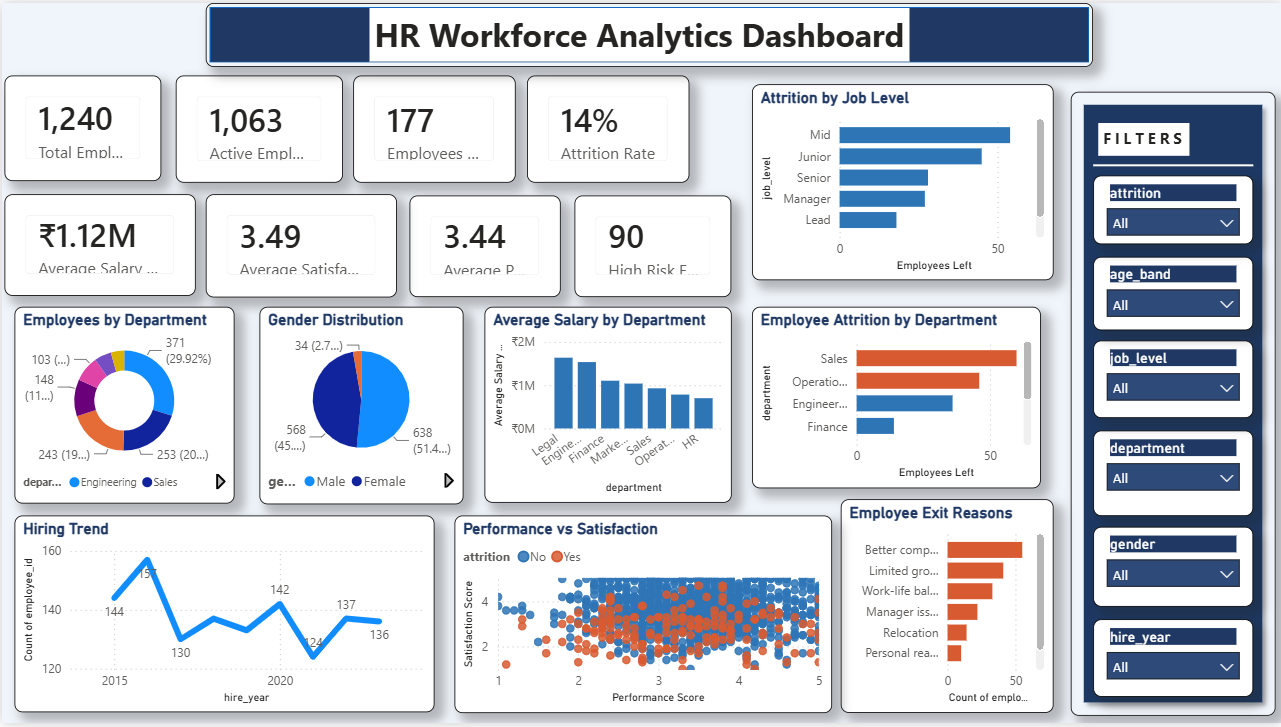

The page's visual inventory and layout, read from the dashboard file:
{"tool":"powerbi","page":{"name":"Page 1","canvas":[1280,720],"ordinal":0},"visuals":[{"type":"shape","box":[1069.1,89.1,204.5,623.6],"z":0},{"type":"cardVisual","fields":{"Data":["hr_cleaned.Total Employees"]},"box":[2.9,72.9,157.1,105.7],"z":1000},{"type":"cardVisual","fields":{"Data":["hr_cleaned.Active Employees"]},"box":[173.8,72.5,167.5,107.5],"z":2000},{"type":"cardVisual","fields":{"Data":["hr_cleaned.Employees Left"]},"box":[351.2,72.5,162.5,107.5],"z":3000},{"type":"cardVisual","fields":{"Data":["hr_cleaned.Attrition Rate"]},"box":[525,72.5,162.5,107.5],"z":4000},{"type":"cardVisual","fields":{"Data":["hr_cleaned.Average Salary"]},"box":[2.9,191.4,191.4,101.4],"z":5000},{"type":"cardVisual","fields":{"Data":["hr_cleaned.Average Performance"]},"box":[407.1,192.9,151.4,101.4],"z":6000},{"type":"cardVisual","fields":{"Data":["hr_cleaned.Average Satisfaction"]},"box":[204.3,191.4,191.4,102.9],"z":7000},{"type":"cardVisual","fields":{"Data":["hr_cleaned.High Risk Employees"]},"box":[572.9,192.9,157.1,101.4],"z":8000},{"type":"donutChart","title":"Employees by Department","fields":{"Category":["hr_cleaned.department"],"Y":["CountNonNull(hr_cleaned.employee_id)"]},"box":[12.9,304.3,220,197.1],"z":9000},{"type":"pieChart","title":"Gender Distribution","fields":{"Category":["hr_cleaned.gender"],"Y":["CountNonNull(hr_cleaned.employee_id)"]},"box":[257.5,303.8,203.8,197.5],"z":10000},{"type":"clusteredBarChart","title":"Employee Attrition by Department","fields":{"Category":["hr_cleaned.department"],"Y":["hr_cleaned.Employees Left"]},"box":[750,303.8,288.8,181.2],"z":11000},{"type":"columnChart","title":"Average Salary by Department","fields":{"Category":["hr_cleaned.department"],"Y":["hr_cleaned.Average Salary"]},"box":[482.9,304.3,247.1,195.7],"z":12000},{"type":"lineChart","title":"Hiring Trend","fields":{"Category":["hr_cleaned.hire_year"],"Y":["CountNonNull(hr_cleaned.employee_id)"]},"box":[12.9,512.9,420,197.1],"z":13000},{"type":"barChart","title":"Employee Exit Reasons","fields":{"Category":["hr_cleaned.exit_reason"],"Y":["CountNonNull(hr_cleaned.employee_id)"]},"box":[838.8,496.2,212.5,213.8],"z":14000},{"type":"scatterChart","title":"Performance vs Satisfaction","fields":{"X":["Sum(hr_cleaned.performance_score)"],"Y":["Sum(hr_cleaned.satisfaction_score)"],"Series":["hr_cleaned.attrition"],"Category":["hr_cleaned.employee_id"]},"box":[452.5,512.5,377.5,197.5],"z":15000},{"type":"clusteredBarChart","title":"Attrition by Job Level","fields":{"Category":["hr_cleaned.job_level"],"Y":["Sum(hr_cleaned.attrition_flag)"]},"box":[750,81.2,301.2,196.2],"z":16000},{"type":"slicer","fields":{"Values":["hr_cleaned.department"]},"box":[1091.3,427.3,160,85.3],"z":17000},{"type":"slicer","fields":{"Values":["hr_cleaned.gender"]},"box":[1091.2,523.8,160,80],"z":18000},{"type":"slicer","fields":{"Values":["hr_cleaned.job_level"]},"box":[1091.3,337.3,160,77.3],"z":19000},{"type":"slicer","fields":{"Values":["hr_cleaned.hire_year"]},"box":[1091.2,616.2,160,77.5],"z":20000},{"type":"slicer","fields":{"Values":["hr_cleaned.age_band"]},"box":[1091.3,253.3,160,73.3],"z":21000},{"type":"slicer","fields":{"Values":["hr_cleaned.attrition"]},"box":[1091.3,172.7,160,68.7],"z":22000},{"type":"textbox","box":[1096,120,91.3,32.7],"z":23000},{"type":"shape","box":[1091.4,154.3,160,17.1],"z":24000},{"type":"shape","box":[203.8,0,887.5,63.8],"z":25000},{"type":"textbox","box":[367.5,5,540,53.8],"z":25001}]}

Visuals, with their boxes in screenshot pixels (x1, y1, x2, y2), scaled from the page's 1280x720 canvas onto the 1281x727 screenshot:
shape: bbox(1070, 90, 1275, 720)
cardVisual - hr_cleaned.Total Employees: bbox(3, 74, 160, 180)
cardVisual - hr_cleaned.Active Employees: bbox(174, 73, 342, 182)
cardVisual - hr_cleaned.Employees Left: bbox(351, 73, 514, 182)
cardVisual - hr_cleaned.Attrition Rate: bbox(525, 73, 688, 182)
cardVisual - hr_cleaned.Average Salary: bbox(3, 193, 194, 296)
cardVisual - hr_cleaned.Average Performance: bbox(407, 195, 559, 297)
cardVisual - hr_cleaned.Average Satisfaction: bbox(204, 193, 396, 297)
cardVisual - hr_cleaned.High Risk Employees: bbox(573, 195, 731, 297)
"Employees by Department" donutChart: bbox(13, 307, 233, 506)
"Gender Distribution" pieChart: bbox(258, 307, 462, 506)
"Employee Attrition by Department" clusteredBarChart: bbox(751, 307, 1040, 490)
"Average Salary by Department" columnChart: bbox(483, 307, 731, 505)
"Hiring Trend" lineChart: bbox(13, 518, 433, 717)
"Employee Exit Reasons" barChart: bbox(839, 501, 1052, 717)
"Performance vs Satisfaction" scatterChart: bbox(453, 517, 831, 717)
"Attrition by Job Level" clusteredBarChart: bbox(751, 82, 1052, 280)
slicer - hr_cleaned.department: bbox(1092, 431, 1252, 518)
slicer - hr_cleaned.gender: bbox(1092, 529, 1252, 610)
slicer - hr_cleaned.job_level: bbox(1092, 341, 1252, 419)
slicer - hr_cleaned.hire_year: bbox(1092, 622, 1252, 700)
slicer - hr_cleaned.age_band: bbox(1092, 256, 1252, 330)
slicer - hr_cleaned.attrition: bbox(1092, 174, 1252, 244)
textbox: bbox(1097, 121, 1188, 154)
shape: bbox(1092, 156, 1252, 173)
shape: bbox(204, 0, 1092, 64)
textbox: bbox(368, 5, 908, 59)
